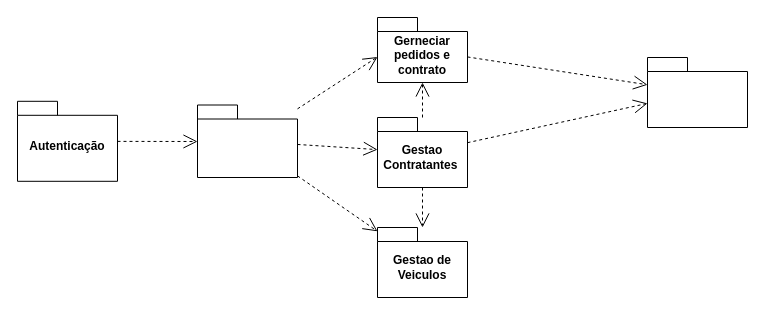
Some shapes in this 765 by 315 pixel diagram are drawn without their labels. Here are the shapes that lost their labels. From the top down, the box of each, then its label:
(646, 56, 748, 128): InterfaceWeb
(196, 104, 298, 178): Infraestrutura
